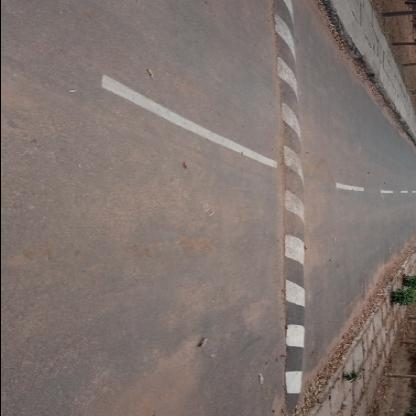speed-bumps: (261, 1, 314, 415)
